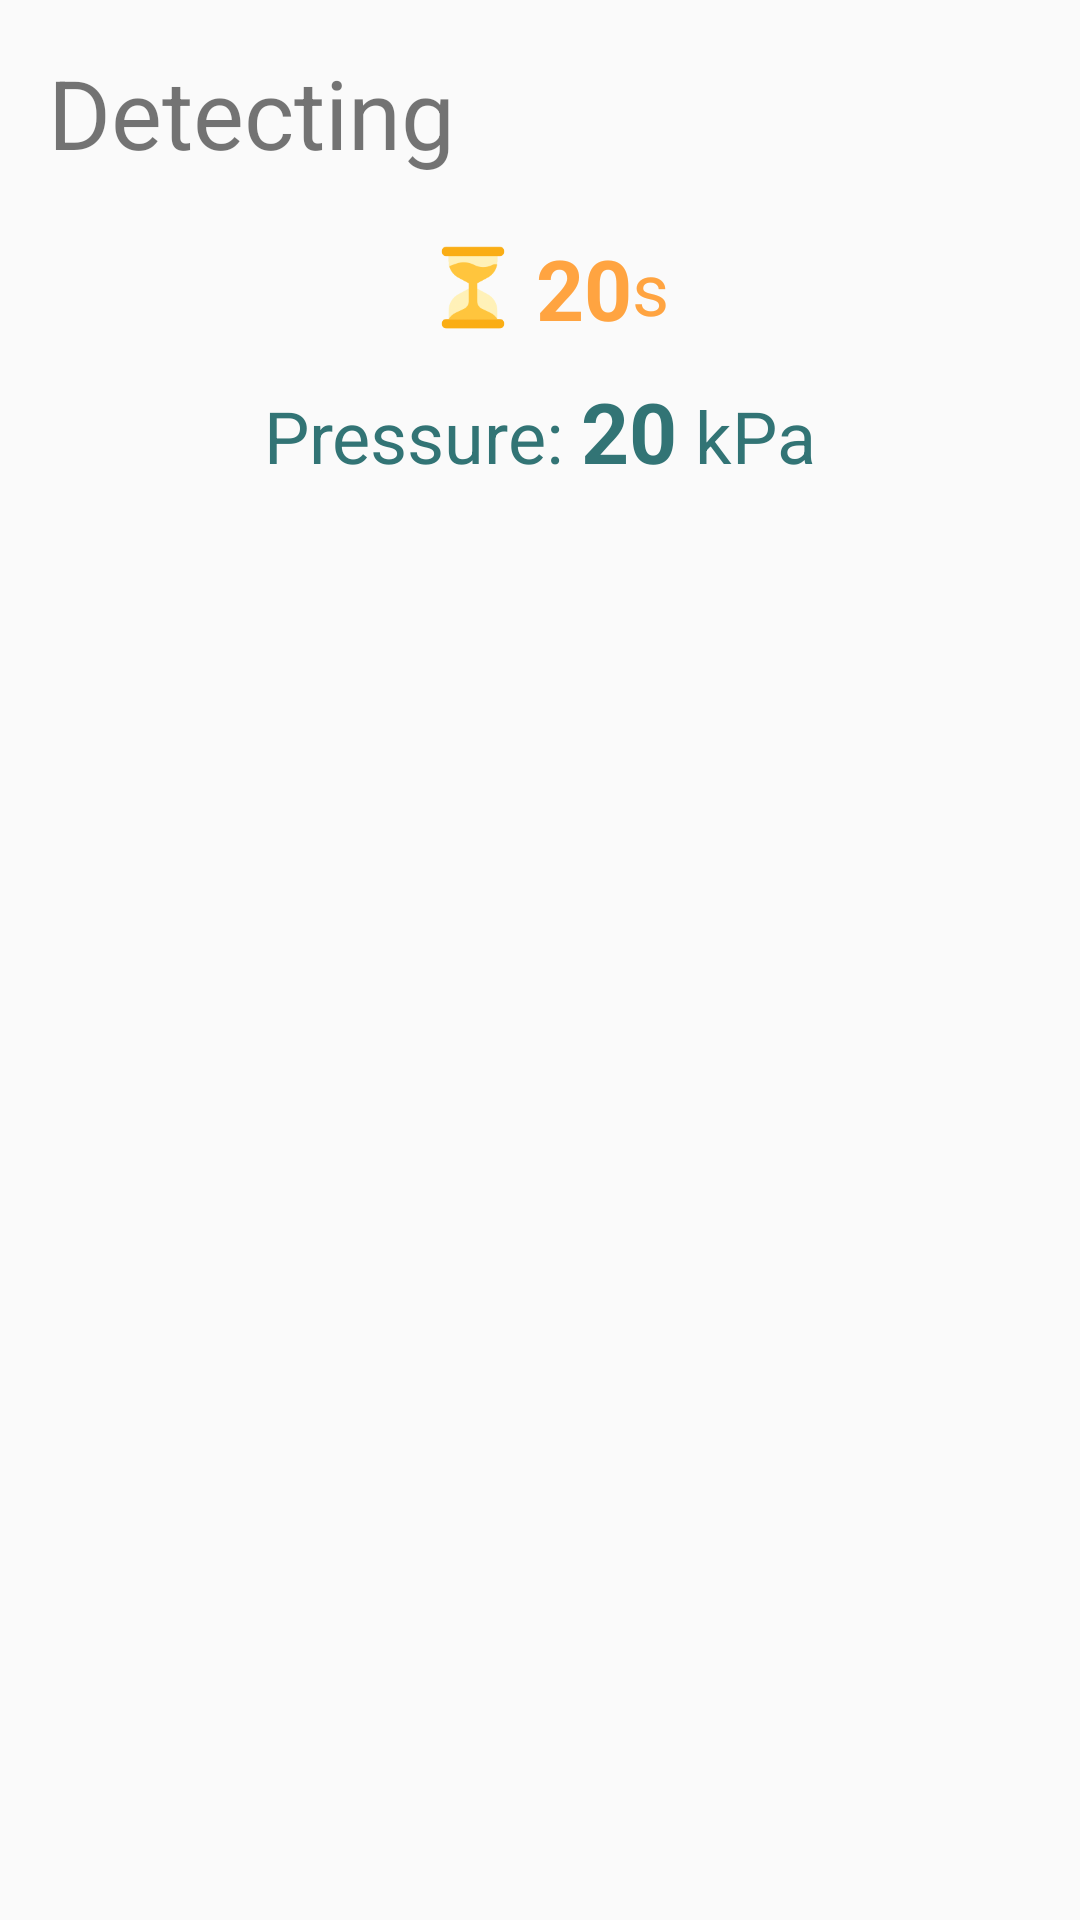

Where icons sit on this 1080x1920 app screen, as BBox(x1, y1, x2, y2):
hourglass: BBox(441, 246, 505, 329)
